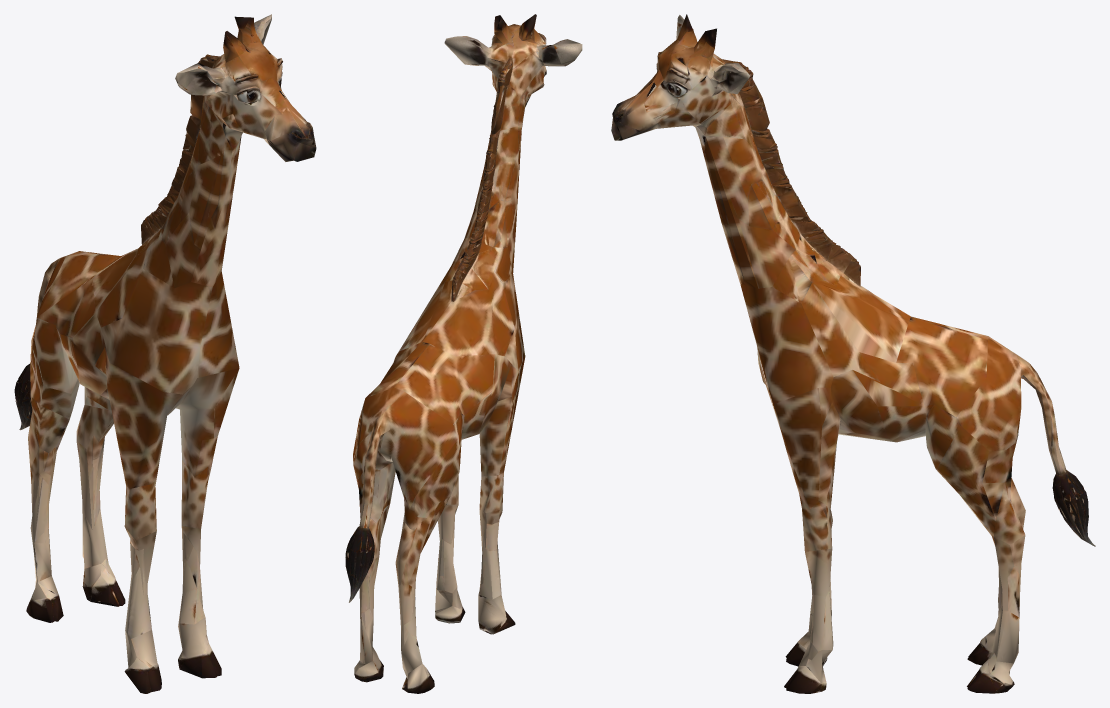
File: giraffe-lod.glb
The picture shows the model from 3 angles, left to right: view 1: azimuth 30°, elevation 25°; view 2: azimuth 150°, elevation 25°; view 3: azimuth 270°, elevation 25°; orthographic projection. The views are drawn at different scales.
Bounding box in the file's own units: 0.3771 × 1.9 × 1.27.
Materials: 1 (1 with a texture image).
